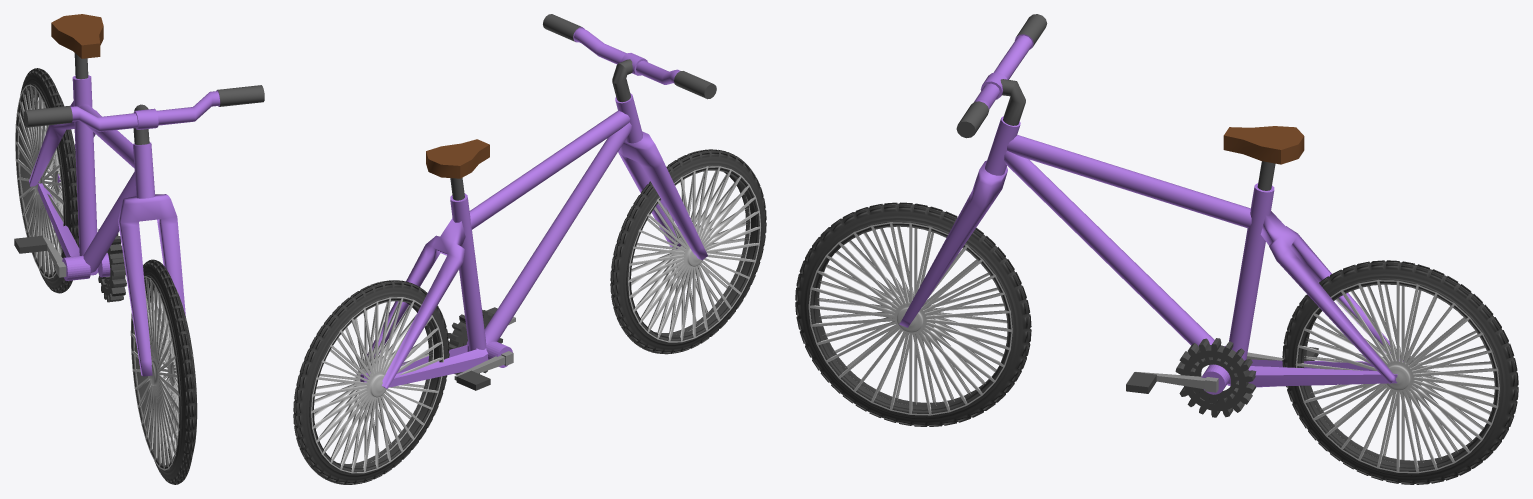
Rendered from bike.glb.
3 views of the same model, side by side, from view 1: azimuth 30°, elevation 25°; view 2: azimuth 150°, elevation 25°; view 3: azimuth 270°, elevation 25° (orthographic). The views are drawn at different scales.
Parts seen in each view (by area): view 1: Torus.011, Cylinder.034, Cube.025, Torus.012, Cylinder.035, Cylinder_4, Cylinder.033, Cube_3, Cylinder_1, Cylinder_3, Gear, Cube_2 (+5 smaller); view 2: Cylinder.034, Cylinder.035, Torus.011, Torus.012, Cylinder_1, Cube_2, Cube.025, Cylinder_2, Cylinder_4, Cylinder.033, Cube_3, Cube_1 (+3 smaller); view 3: Cylinder.034, Cylinder.035, Torus.011, Torus.012, Cylinder_1, Cylinder_2, Cube_2, Cylinder.033, Cube.025, Cube_1, Gear, Cylinder_4 (+4 smaller).
Boxes of the visible parts, x1=… form: Torus.011: x1=131, y1=259, x2=196, y2=484; Cylinder.034: x1=130, y1=276, x2=197, y2=470; Cube.025: x1=118, y1=194, x2=185, y2=376; Torus.012: x1=16, y1=68, x2=79, y2=293; Cylinder.035: x1=15, y1=84, x2=75, y2=278; Cylinder_4: x1=23, y1=85, x2=264, y2=131; Cylinder.033: x1=72, y1=53, x2=98, y2=268; Cube_3: x1=51, y1=14, x2=103, y2=58; Cylinder_1: x1=83, y1=172, x2=136, y2=272; Cylinder_3: x1=133, y1=104, x2=155, y2=198; Gear: x1=98, y1=229, x2=126, y2=302; Cube_2: x1=29, y1=101, x2=99, y2=186; Cylinder.034: x1=628, y1=166, x2=760, y2=342; Cylinder.035: x1=311, y1=297, x2=443, y2=473; Torus.011: x1=610, y1=149, x2=766, y2=354; Torus.012: x1=293, y1=280, x2=449, y2=484; Cylinder_1: x1=484, y1=122, x2=631, y2=345; Cube_2: x1=356, y1=218, x2=465, y2=388; Cube.025: x1=618, y1=131, x2=707, y2=260; Cylinder_2: x1=469, y1=110, x2=630, y2=229; Cylinder_4: x1=543, y1=14, x2=716, y2=99; Cylinder.033: x1=450, y1=177, x2=486, y2=351; Cube_3: x1=426, y1=139, x2=489, y2=178; Cube_1: x1=360, y1=344, x2=488, y2=387; Cylinder.034: x1=808, y1=222, x2=1012, y2=415; Cylinder.035: x1=1295, y1=279, x2=1499, y2=473; Torus.011: x1=795, y1=202, x2=1031, y2=426; Torus.012: x1=1282, y1=260, x2=1518, y2=484; Cylinder_1: x1=1004, y1=150, x2=1214, y2=346; Cylinder_2: x1=1007, y1=135, x2=1251, y2=228; Cube_2: x1=1260, y1=211, x2=1403, y2=383; Cylinder.033: x1=1229, y1=161, x2=1275, y2=360; Cube.025: x1=899, y1=160, x2=1007, y2=327; Cube_1: x1=1227, y1=359, x2=1397, y2=387; Gear: x1=1175, y1=338, x2=1256, y2=417; Cylinder_4: x1=956, y1=14, x2=1047, y2=138.
Bounding box in the file's own units: 3.02 × 4.41 × 7.84.
